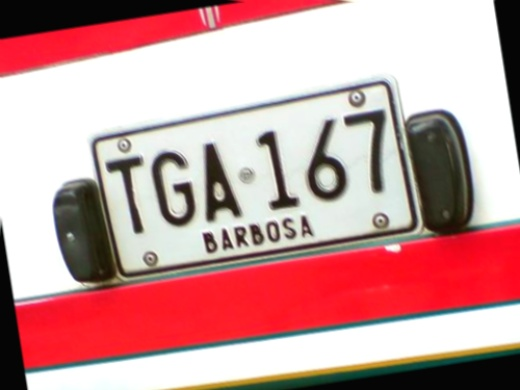placas: (81, 68, 426, 286)
